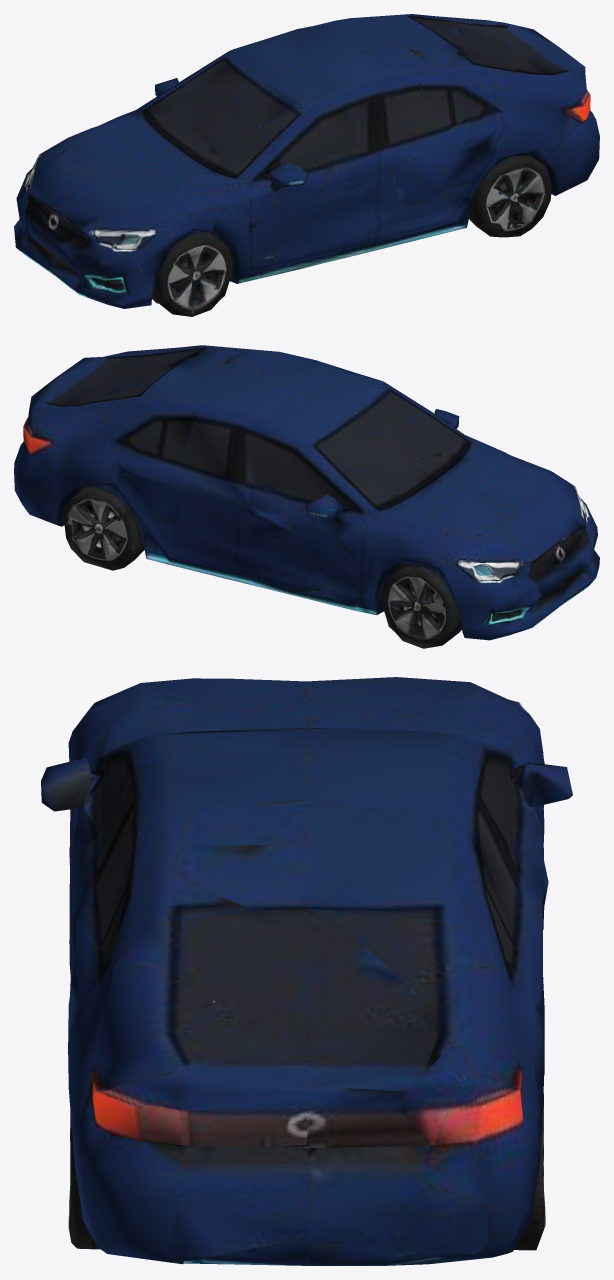
Rendered from car.glb.
3 renders of one model, top to bottom at view 1: azimuth 30°, elevation 25°; view 2: azimuth 150°, elevation 25°; view 3: azimuth 270°, elevation 25°, orthographic. The views are drawn at different scales.
Visible parts, largest first — view 1: mesh_node; view 2: mesh_node; view 3: mesh_node.
Part boxes in pixels (bbox=[...]): mesh_node: bbox=[14, 14, 599, 316]; mesh_node: bbox=[14, 345, 599, 648]; mesh_node: bbox=[41, 677, 572, 1265].
Size of the model in its own units: 1.9 by 0.6039 by 0.8437.
Materials: 1 (1 with a texture image).
